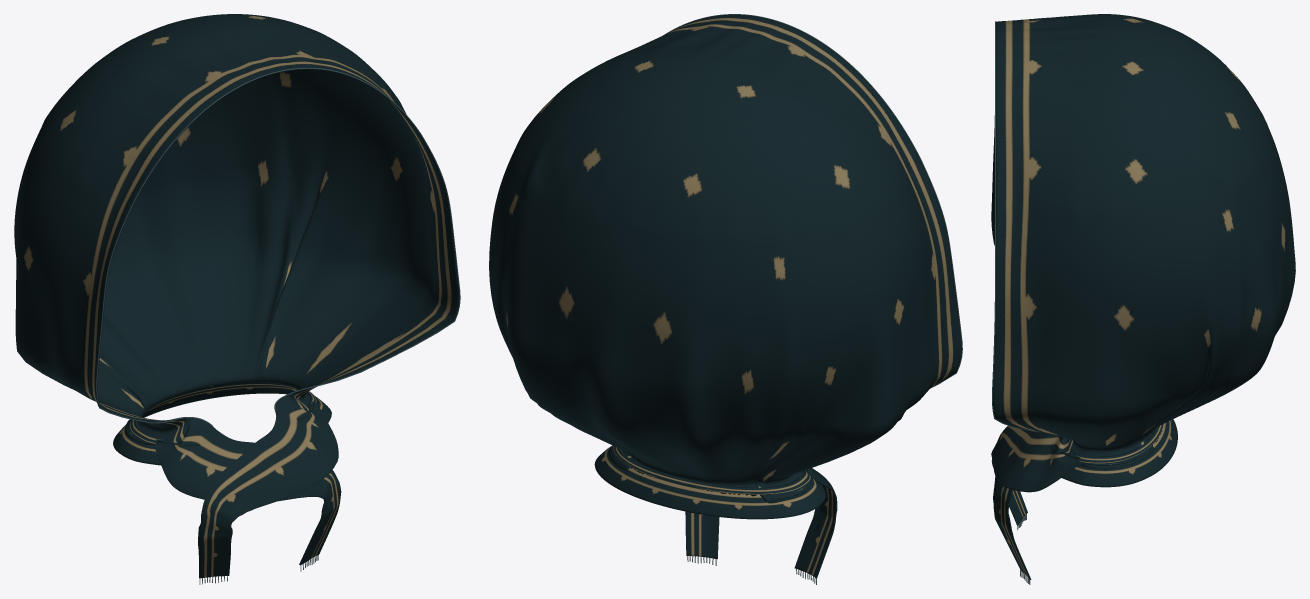
The model's file is Feminine-bandeau-pashmina240-headgear.glb.
The picture shows the model from 3 angles, left to right: view 1: azimuth 30°, elevation 25°; view 2: azimuth 150°, elevation 25°; view 3: azimuth 270°, elevation 25°; orthographic projection. The views are drawn at different scales.
Visible parts, largest first — view 1: 226 headgear / Headwear / continuous woven pashmina239, 226 headgear / Headwear / face edge239; view 2: 226 headgear / Headwear / continuous woven pashmina239, 226 headgear / Headwear / face edge239; view 3: 226 headgear / Headwear / continuous woven pashmina239, 226 headgear / Headwear / face edge239.
Part boxes in pixels (x1,y1,x2,y2): 226 headgear / Headwear / continuous woven pashmina239: (14,14,459,578); 226 headgear / Headwear / face edge239: (96,68,460,426); 226 headgear / Headwear / continuous woven pashmina239: (489,14,961,578); 226 headgear / Headwear / face edge239: (664,14,962,387); 226 headgear / Headwear / continuous woven pashmina239: (991,14,1295,579); 226 headgear / Headwear / face edge239: (991,21,1042,432).
Bounding box in the file's own units: 1.02 × 1.35 × 0.7122.
Materials: 3 (1 with a texture image).
